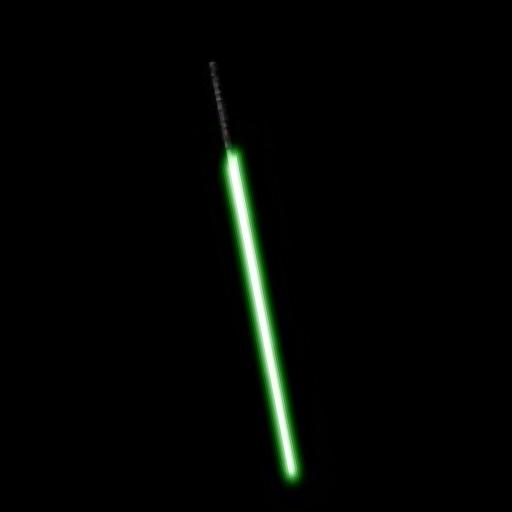lightsaber: (203, 58, 310, 490)
